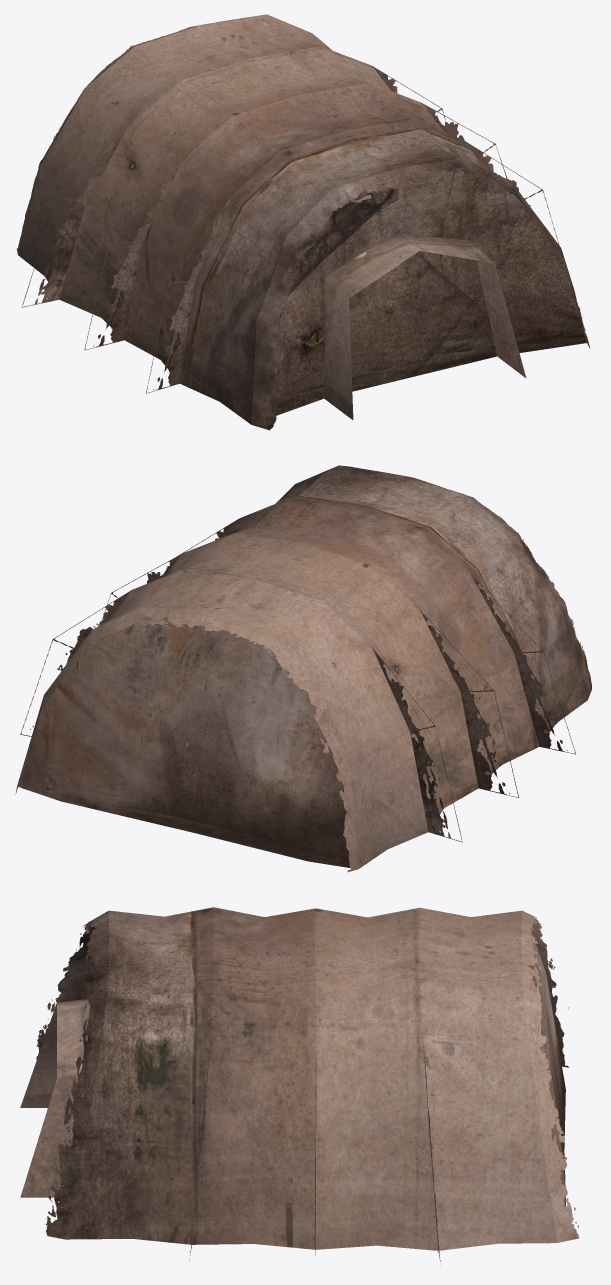
File: tent_small_2.fbx
3 renders of one model, top to bottom at view 1: azimuth 30°, elevation 25°; view 2: azimuth 150°, elevation 25°; view 3: azimuth 270°, elevation 25°, orthographic. The views are drawn at different scales.
Visible parts, largest first — view 1: tent_small_2; view 2: tent_small_2; view 3: tent_small_2.
Part boxes in pixels (<box>): tent_small_2: <box>16,14,590,430</box>; tent_small_2: <box>15,465,591,872</box>; tent_small_2: <box>20,907,579,1265</box>.
Size of the model in its own units: 120 by 52.02 by 128.
Materials: 1 (1 with a texture image).
